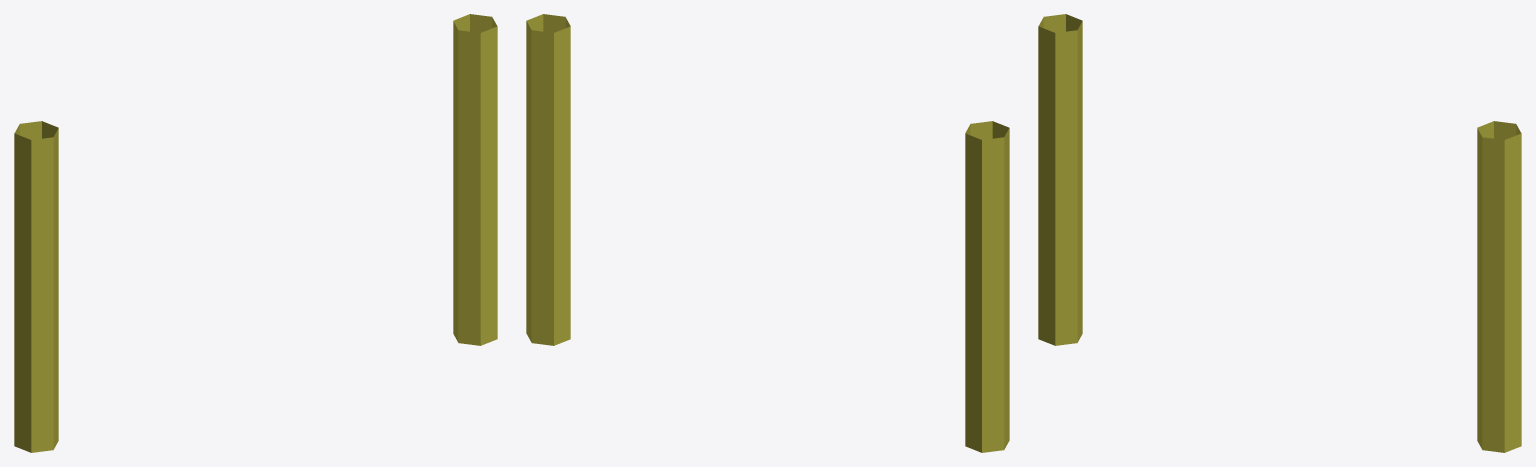
The model's file is FacilityPillar_02_SM_Low.fbx.
3 renders of one model, left to right at view 1: azimuth 30°, elevation 25°; view 2: azimuth 150°, elevation 25°; view 3: azimuth 330°, elevation 25°, orthographic.
Parts seen in each view (by area): view 1: facility_pillar_02_geo; view 2: facility_pillar_02_geo; view 3: facility_pillar_02_geo.
Boxes of the visible parts, x1,y1,x2,y2 form: facility_pillar_02_geo: (14,14,497,452); facility_pillar_02_geo: (526,14,1009,452); facility_pillar_02_geo: (1038,14,1521,452).
Size of the model in its own units: 737 by 461 by 59.21.
